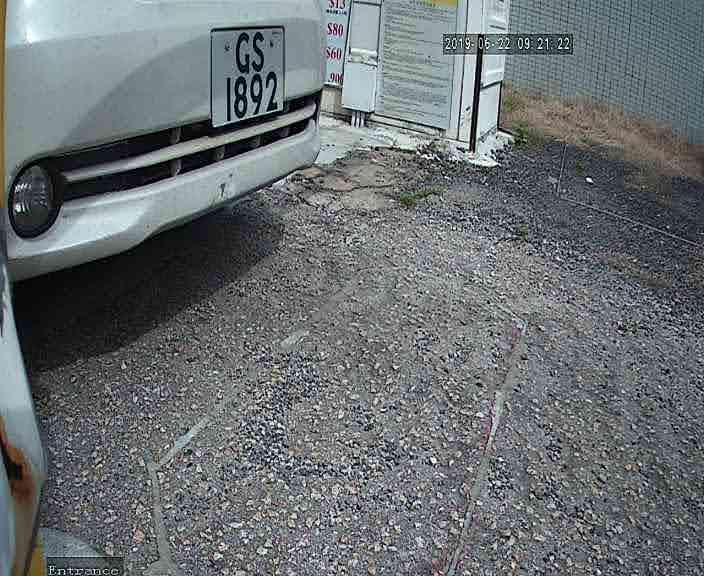bottom_left_lp: (208, 119, 218, 128)
bottom_right_lp: (278, 104, 285, 113)
top_left_lp: (206, 24, 216, 36)
top_right_lp: (280, 22, 287, 34)
